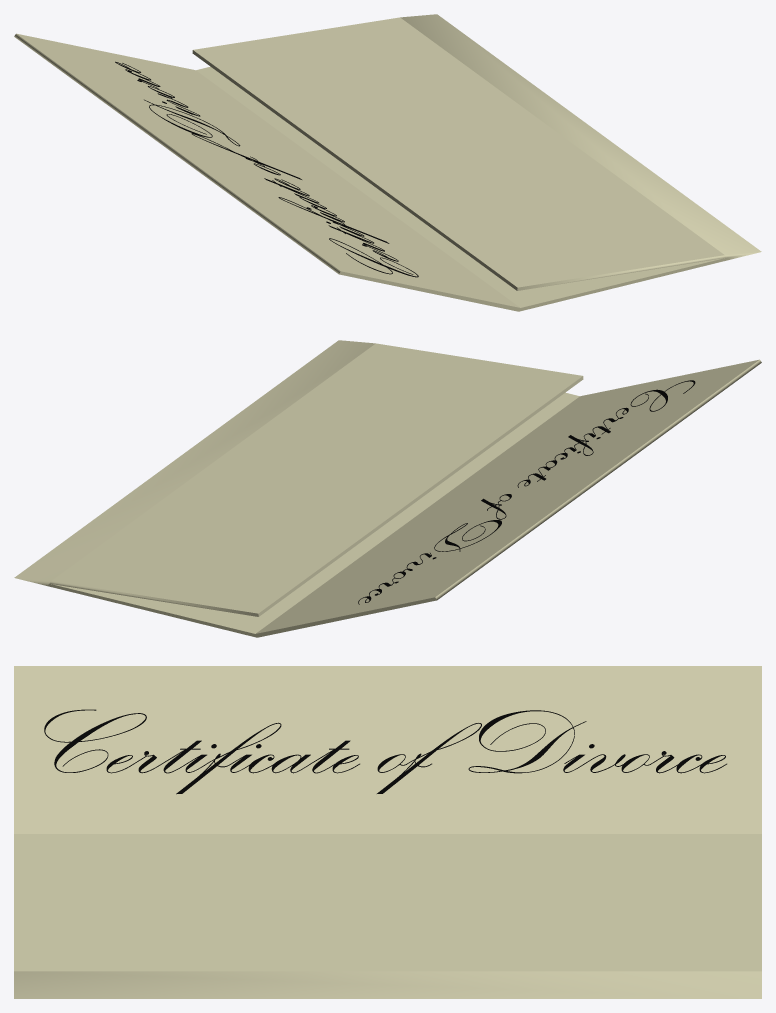
Rendered from divorce.fbx.
The picture shows the model from 3 angles, top to bottom: view 1: azimuth 30°, elevation 25°; view 2: azimuth 150°, elevation 25°; view 3: azimuth 270°, elevation 25°; orthographic projection. The views are drawn at different scales.
Parts seen in each view (by area): view 1: Cube.001, Certific; view 2: Cube.001, Certific; view 3: Cube.001, Certific.
Boxes of the visible parts, x1,y1,x2,y2 form: Cube.001: (14, 14, 761, 311); Certific: (115, 61, 418, 277); Cube.001: (14, 340, 761, 637); Certific: (358, 380, 695, 604); Cube.001: (14, 666, 761, 998); Certific: (44, 709, 726, 794).
Bounding box in the file's own units: 108 × 20.51 × 144.
